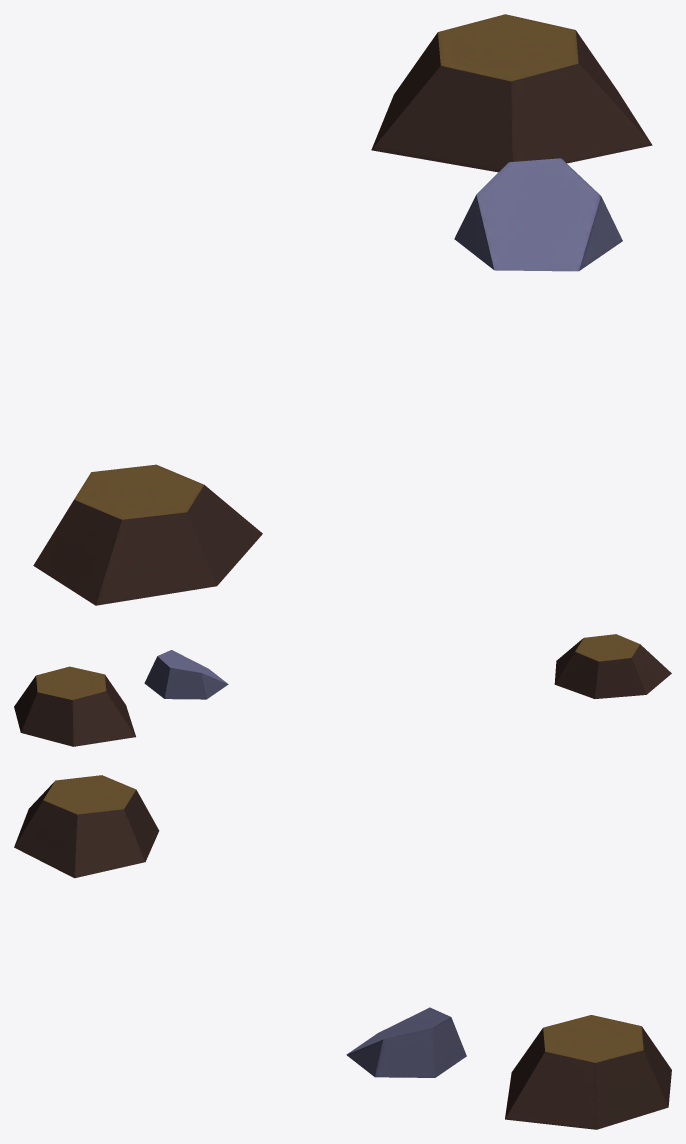
Rendered from waste_1_ruin_lod2.fbx.
The picture shows the model from 3 angles, top to bottom: view 1: azimuth 30°, elevation 25°; view 2: azimuth 150°, elevation 25°; view 3: azimuth 270°, elevation 25°; orthographic projection. The views are drawn at different scales.
Visible parts, largest first — view 1: waste_1_ruin_lod2; view 2: waste_1_ruin_lod2; view 3: waste_1_ruin_lod2.
Boxes of the visible parts, x1,y1,x2,y2 form: waste_1_ruin_lod2: (33,14,652,605); waste_1_ruin_lod2: (14,634,671,746); waste_1_ruin_lod2: (14,775,671,1129).
Size of the model in its own units: 0.0511 by 0.00382 by 0.044.
